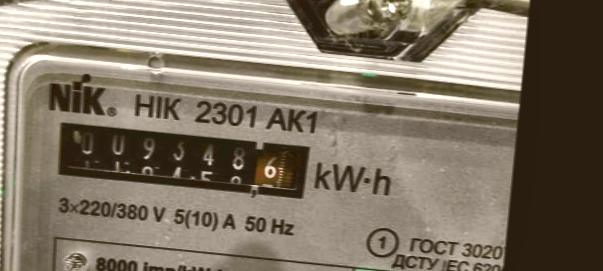0: (109, 130, 126, 154), (79, 127, 94, 154)
3: (169, 135, 186, 162)
4: (199, 138, 216, 166)
6: (260, 151, 280, 179)
8: (229, 142, 247, 171)
9: (138, 133, 156, 160)
screen: (45, 112, 319, 207)
